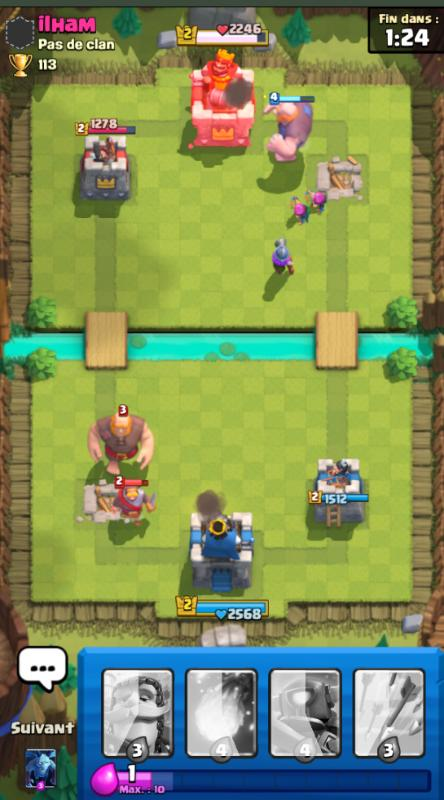archere: (290, 194, 309, 226), (308, 188, 327, 215)
chevalier: (112, 484, 157, 529)
geant: (87, 410, 156, 475), (266, 96, 315, 164)
mousquetaire: (272, 237, 297, 277)
